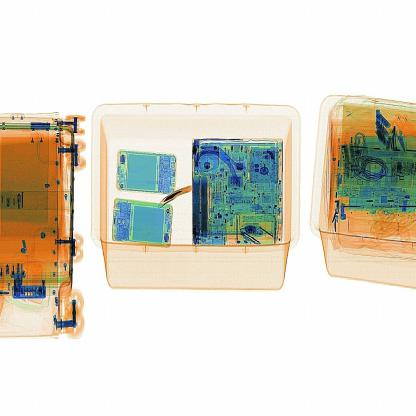wrench: (150, 183, 200, 211)
